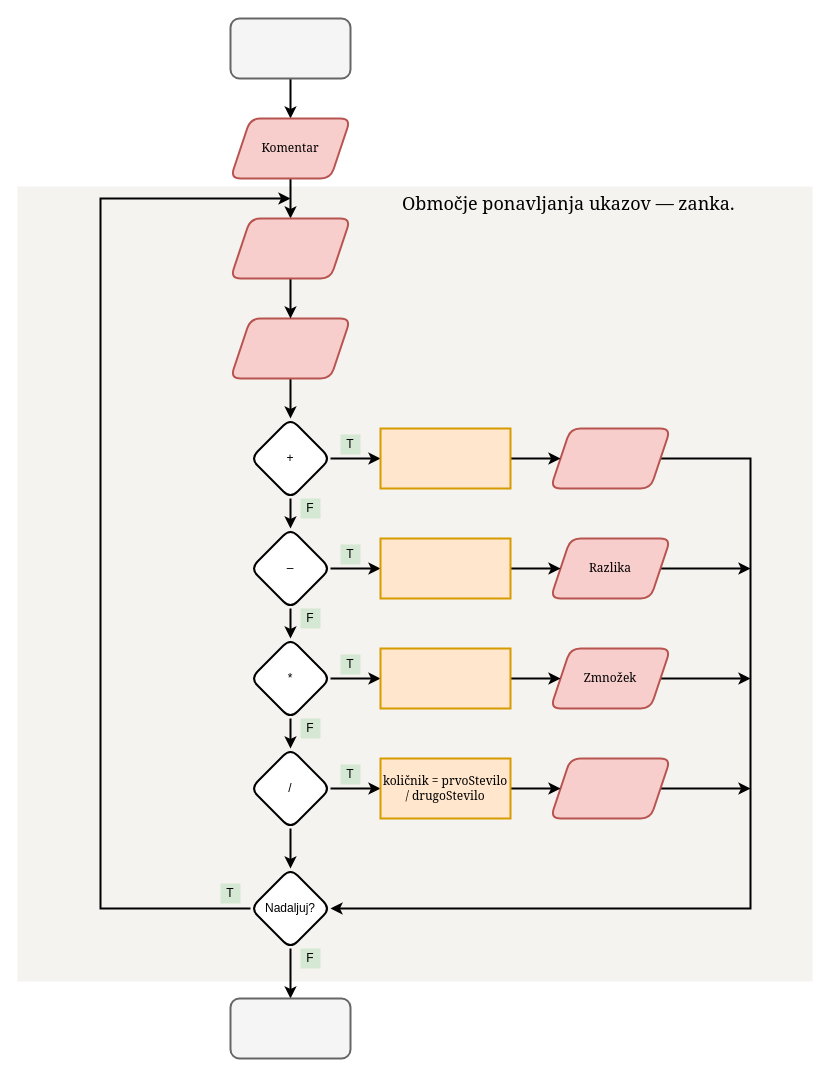
Image size: 829x1076. Some labels were removed from this diagram. Here are the shapes that lost their labels. From the top down, the centre of each, then its label:
At point 290,48: "Začetek".
At point 290,248: "operacija".
At point 290,348: "prvoStevilo, drugoStevilo".
At point 445,458: "vsota = prvoStevilo + drugoStevilo".
At point 610,458: "Vsota".
At point 445,568: "razlika = prvoStevilo – drugoStevilo".
At point 445,678: "zmnožek = prvoStevilo * drugoStevilo".
At point 610,788: "Količnik".
At point 290,1028: "Konec".
